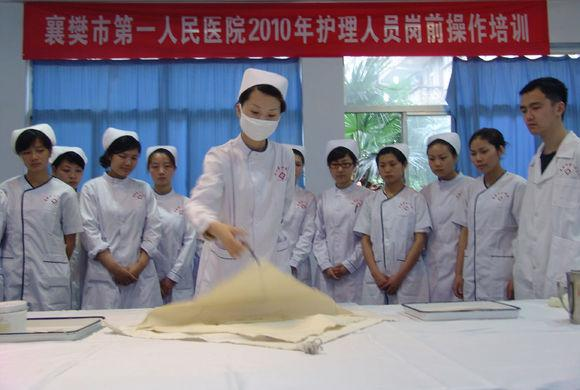NONE: (521, 102, 555, 135), (471, 145, 499, 172), (428, 153, 454, 180), (23, 146, 49, 172), (379, 158, 403, 182), (152, 163, 176, 186), (331, 157, 353, 182), (60, 166, 84, 188), (114, 154, 136, 176)
OK: (240, 99, 281, 140)
